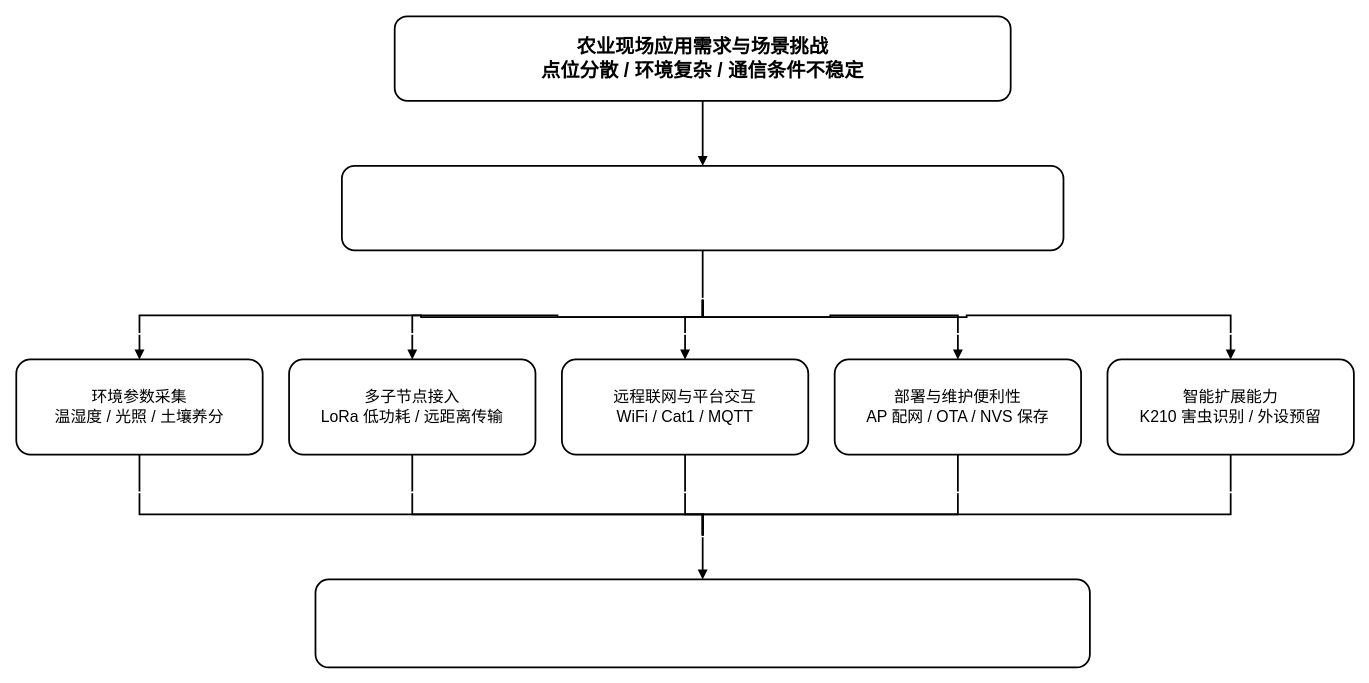
Some shapes in this 1369 by 683 pixel diagram are drawn without their labels. The centre of each missing label's shape, as x and y in pixels:
"系统必须覆盖完整业务链路 感知 / 传输 / 处理 / 上报 / 维护" goes at point 702,208.
"面向农业现场的综合物联网网关平台 兼具感知、通信、控制、维护与后续扩展能力" goes at point 702,623.
